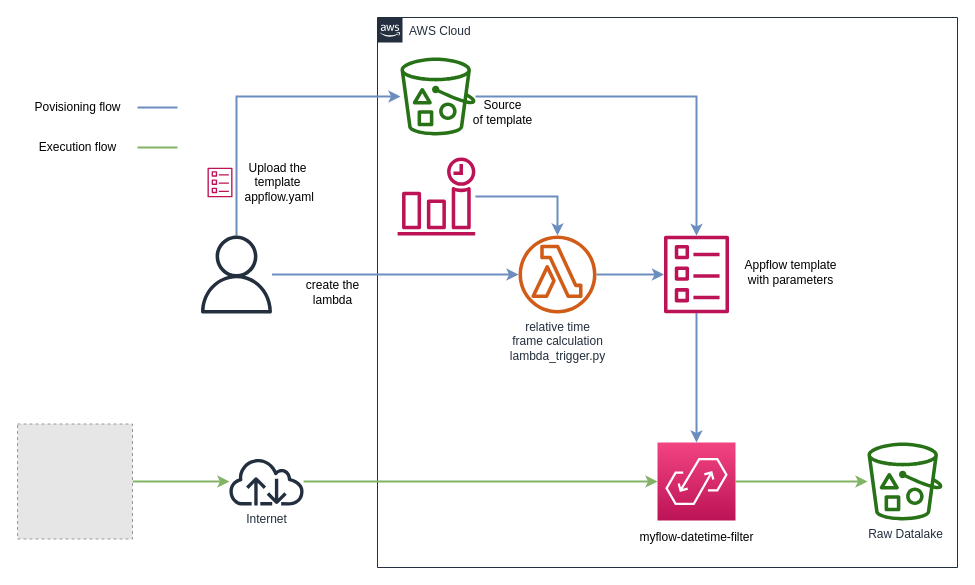
This 975x585 diagram has some shape labels left out. Grey dashed boxes stand in for pictures. The shapes that lost their labels are listed below. From the top down, each one's centre as x and y in pixels, then its label:
At point 436,196: "Time Based Execution".
At point 236,274: "Manual Action".
